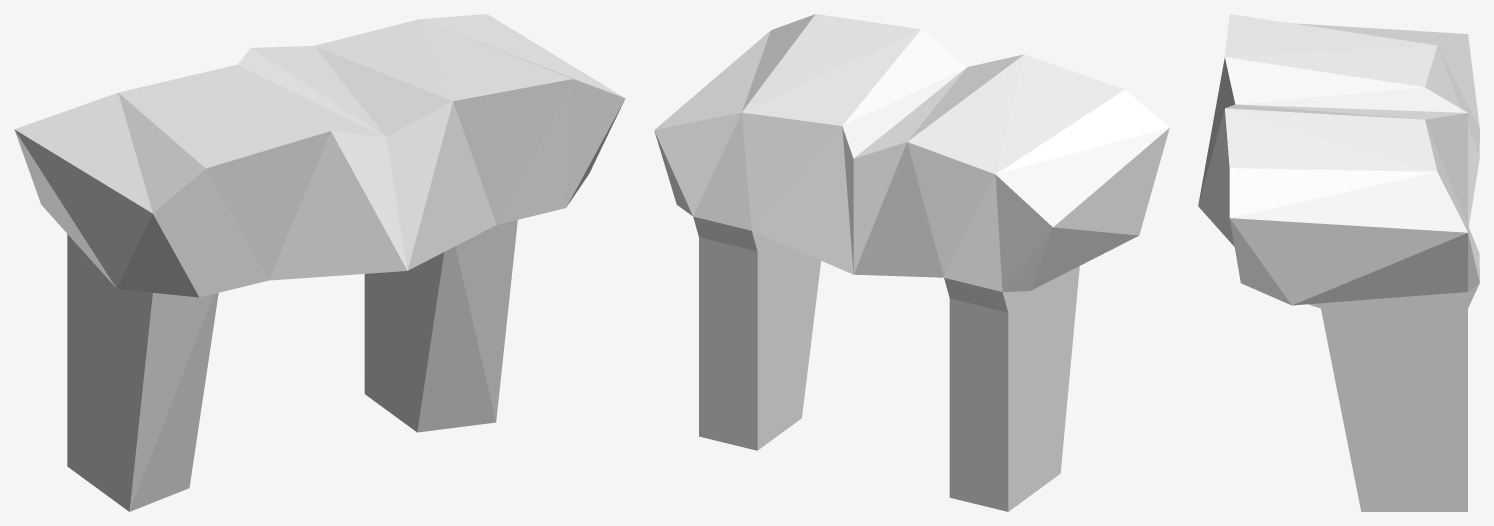
File: MineShalf.obj
3 renders of one model, left to right at view 1: azimuth 30°, elevation 25°; view 2: azimuth 150°, elevation 25°; view 3: azimuth 270°, elevation 25°, orthographic. The views are drawn at different scales.
Visible parts, largest first — view 1: 立方体; view 2: 立方体; view 3: 立方体.
Part boxes in pixels (x1,y1,x2,y2): 立方体: (14, 14, 625, 511); 立方体: (654, 14, 1169, 511); 立方体: (1198, 14, 1479, 511).
Bounding box in the file's own units: 3.58 × 2.96 × 2.15.
